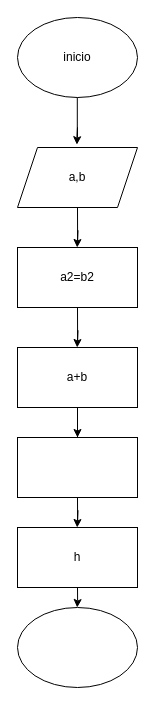
Some shapes in this 155 by 705 pixel diagram are drawn without their labels. Here are the shapes that lost their labels. From the top down, the centre of each, then its label:
pixel 77 467: h= √a2=b2
pixel 77 647: fin
